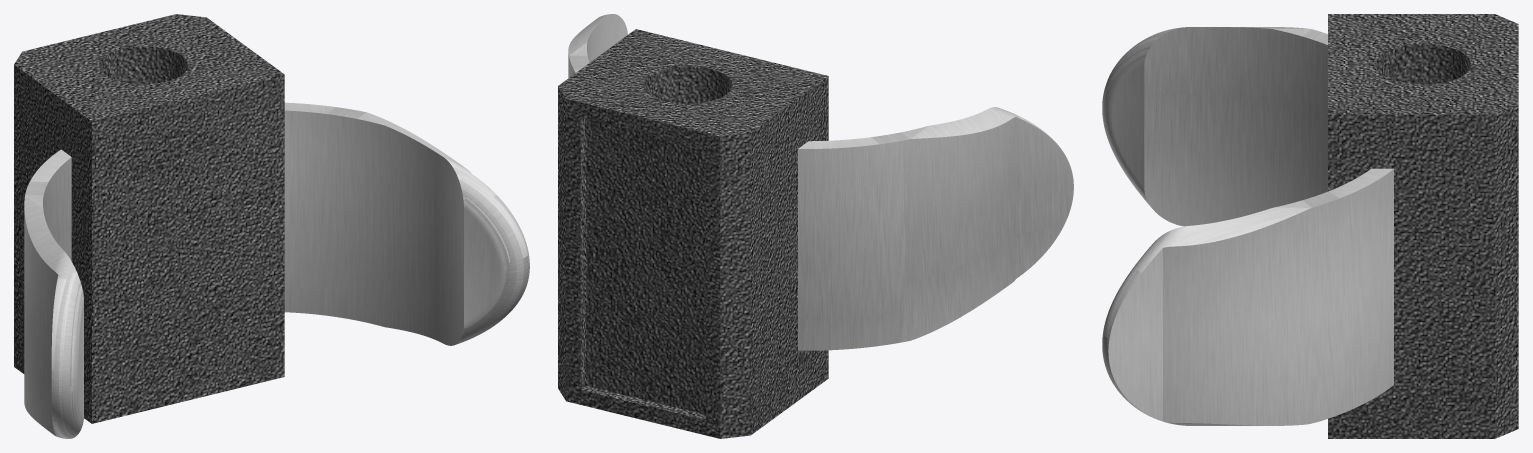
The model's file is state 8k.fbx.
The picture shows the model from 3 angles, left to right: view 1: azimuth 30°, elevation 25°; view 2: azimuth 150°, elevation 25°; view 3: azimuth 270°, elevation 25°; orthographic projection. The views are drawn at different scales.
Parts seen in each view (by area): view 1: ggg; view 2: ggg; view 3: ggg.
Boxes of the visible parts, x1=… form: ggg: x1=14, y1=14, x2=529, y2=438; ggg: x1=558, y1=14, x2=1073, y2=438; ggg: x1=1102, y1=14, x2=1518, y2=438.
Size of the model in its own units: 49.63 by 30 by 34.94.
2 materials, 2 textured.
